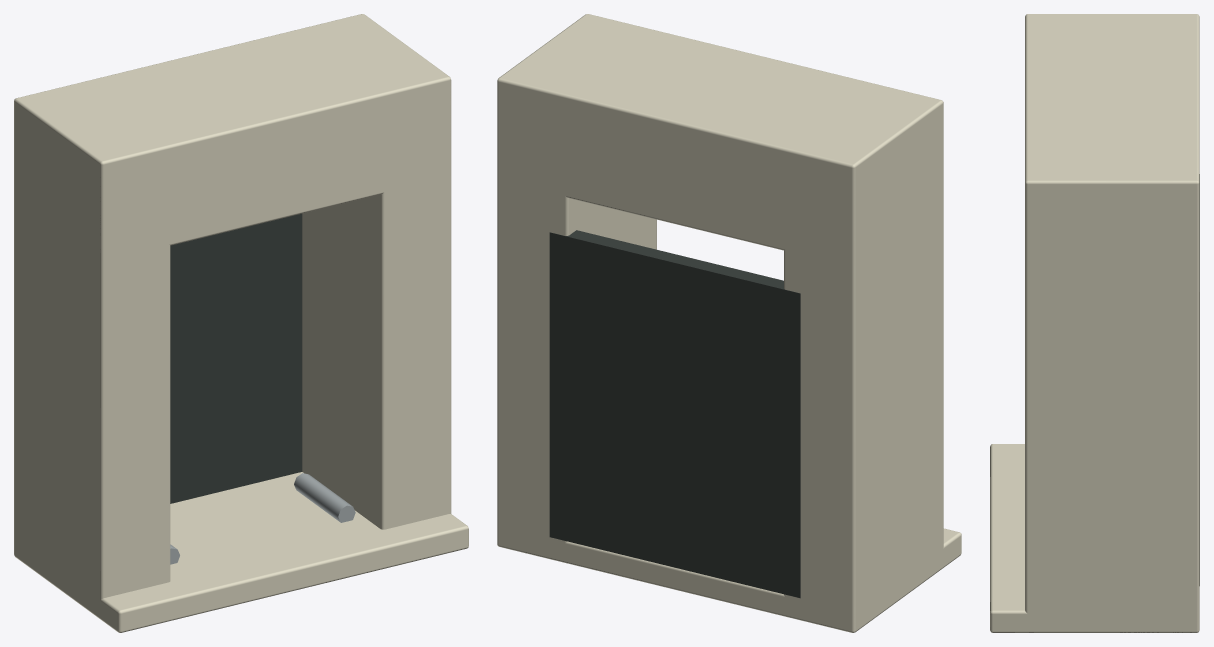
File: rural-scavenging-settlements-farmhouse-hearth-6e679e4d__26536.glb
3 renders of one model, left to right at view 1: azimuth 30°, elevation 25°; view 2: azimuth 150°, elevation 25°; view 3: azimuth 270°, elevation 25°, orthographic. The views are drawn at different scales.
Visible parts, largest first — view 1: farmhouse-hearth; view 2: farmhouse-hearth; view 3: farmhouse-hearth.
Part boxes in pixels (x1=…): farmhouse-hearth: x1=14, y1=14, x2=468, y2=632; farmhouse-hearth: x1=497, y1=14, x2=961, y2=632; farmhouse-hearth: x1=990, y1=14, x2=1199, y2=632.
Size of the model in its own units: 1.6 by 2 by 0.8412.
